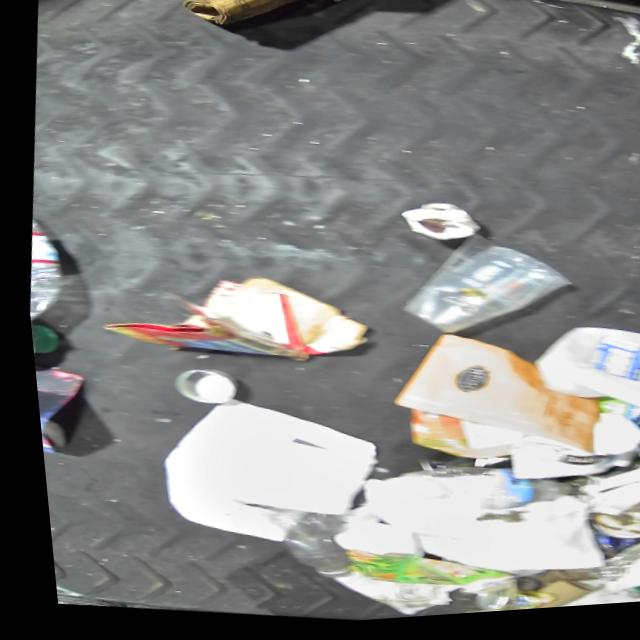can: (392, 202, 479, 253), (159, 364, 234, 412), (571, 511, 640, 553), (456, 590, 539, 619), (457, 607, 549, 619)
milk_jug: (517, 323, 640, 435)
plastic_bottle: (380, 457, 573, 531), (242, 504, 346, 589), (15, 199, 70, 347)
